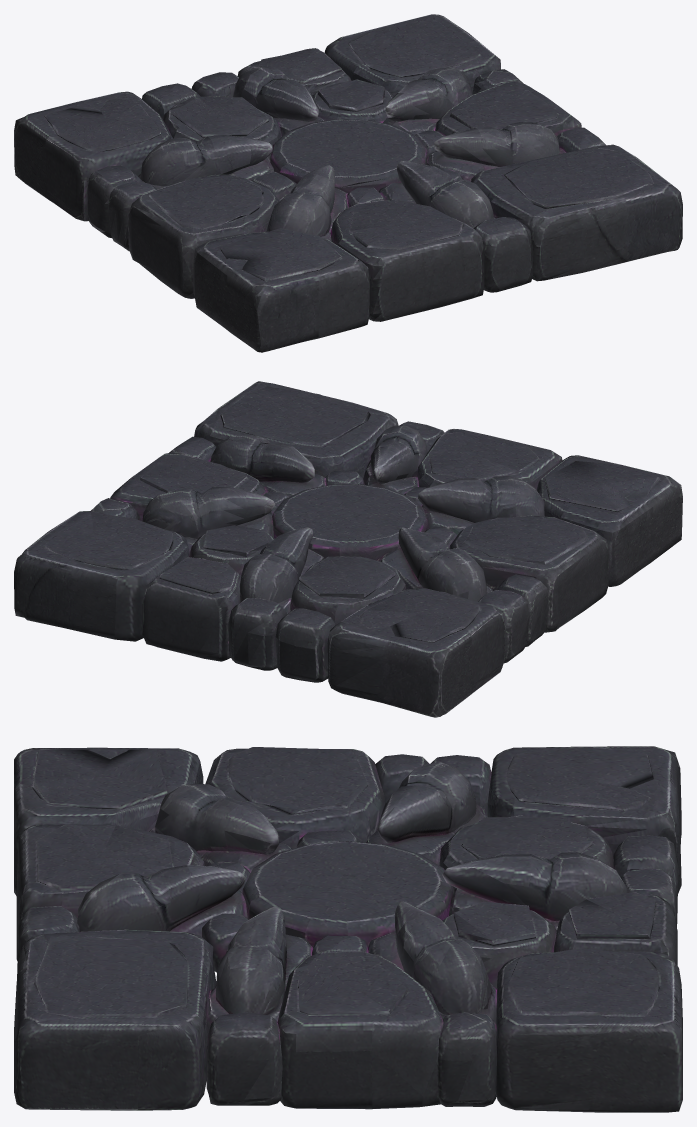
The model's file is snare_armed.glb.
3 renders of one model, top to bottom at view 1: azimuth 30°, elevation 25°; view 2: azimuth 150°, elevation 25°; view 3: azimuth 270°, elevation 25°, orthographic. The views are drawn at different scales.
Size of the model in its own units: 1 by 0.2261 by 1.
Materials: 1 (1 with a texture image).
